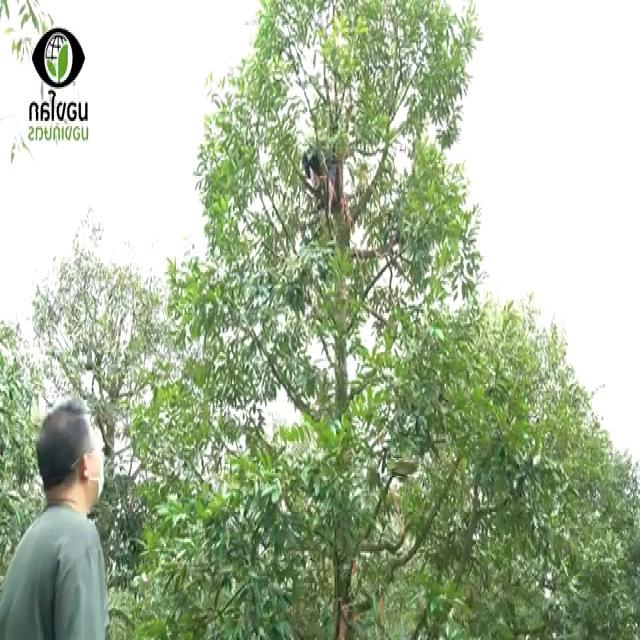durian: (391, 454, 416, 480)
